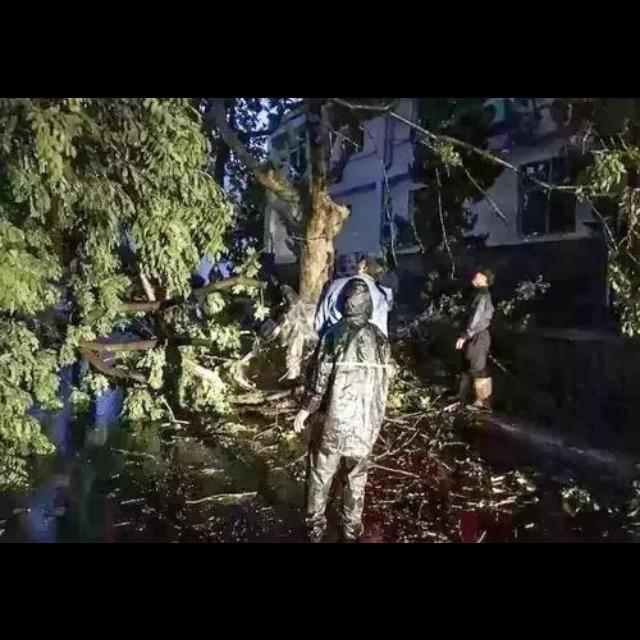fallen_tree: (328, 104, 640, 320), (55, 276, 308, 436)
